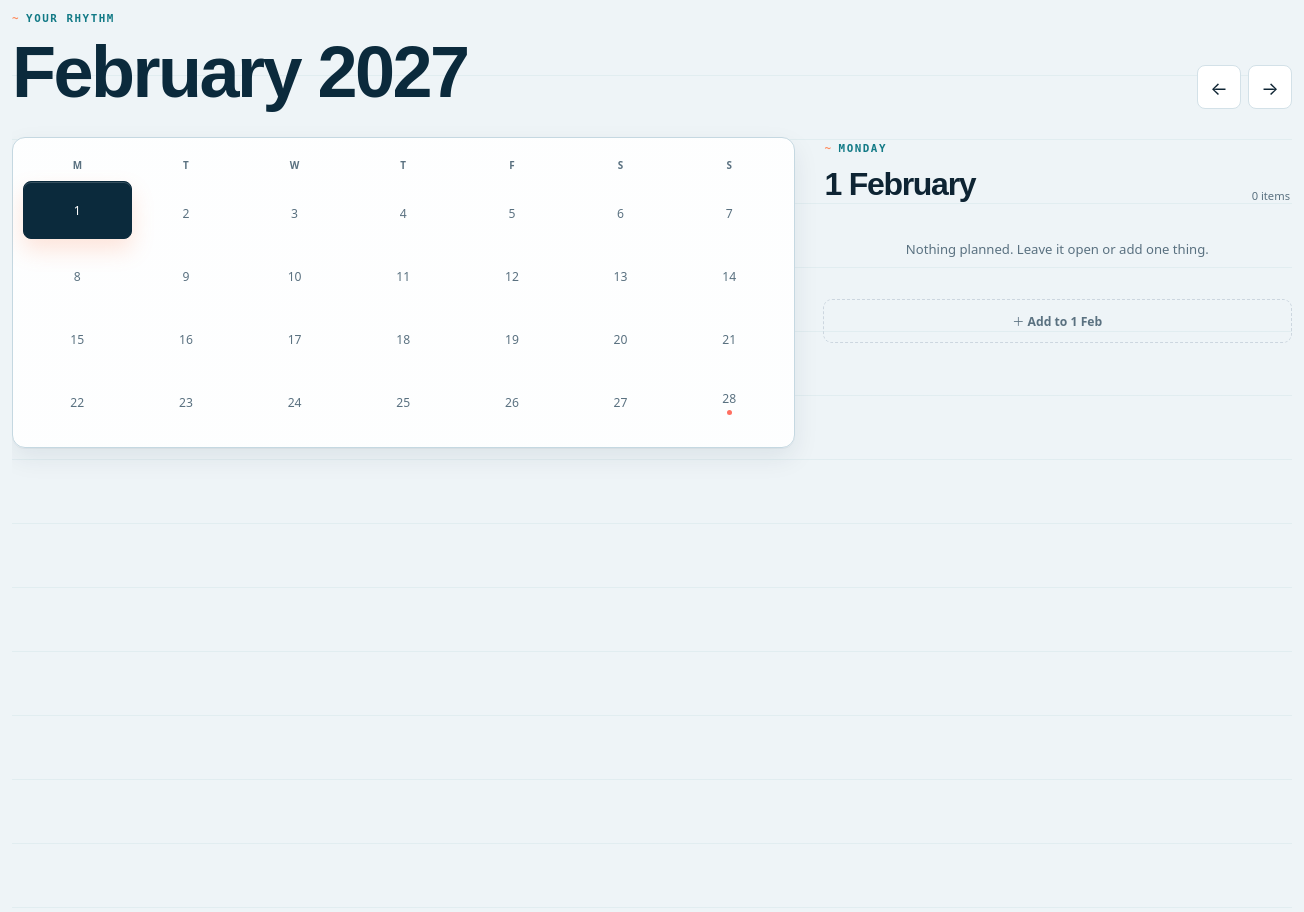
Scenario: shows a day-31 monthly task on the last day of February
Click the button named "February 28, 1 task" at x=729, y=402, box [675,373,784,431]
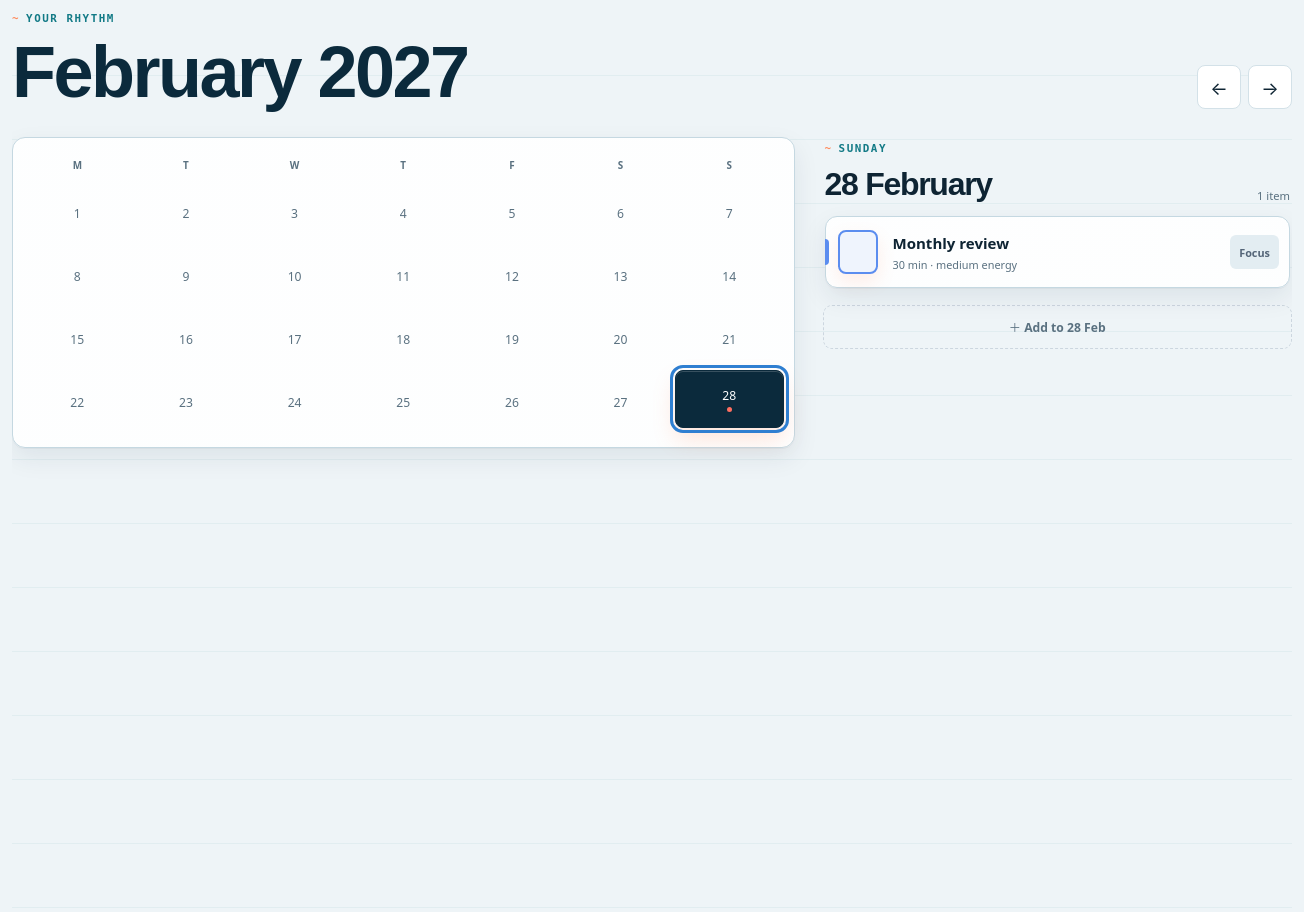
expect the heading "Monthly review" is shown: met, box [892,233,1009,253]
